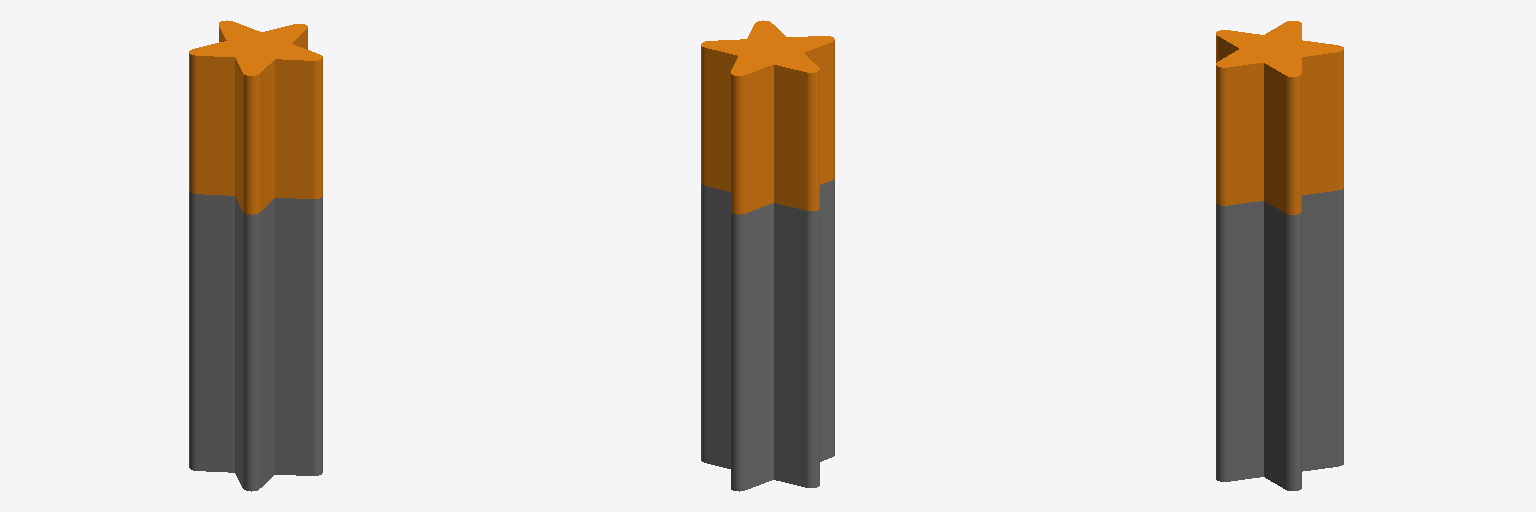
robot.urdf — fmb_peg_40_sdf_hybrid:
<?xml version="1.0" encoding="utf-8"?>
<robot name="fmb_peg_40_sdf_hybrid">
  <link name="base_link">
    <inertial>
      <mass value="0.05"/>
      <inertia ixx="1e-5" ixy="0" ixz="0" iyy="1e-5" iyz="0" izz="1e-5"/>
    </inertial>
  </link>
  <material name="tip">
    <color rgba="0.95 0.55 0.10 1.0"/>
  </material>
  <material name="body">
    <color rgba="0.50 0.50 0.50 1.0"/>
  </material>
  <link name="tip_link">
    <visual>
      <origin xyz="0.000000 0.000000 0.000000" rpy="0.000000 0.000000 0.000000"/>
      <geometry>
        <mesh filename="peg_40_tip.obj" scale="1 1 1"/>
      </geometry>
      <material name="tip"/>
    </visual>
    <collision>
      <origin xyz="0.000000 0.000000 0.000000" rpy="0.000000 0.000000 0.000000"/>
      <geometry>
        <mesh filename="peg_40_tip.obj" scale="1 1 1"/>
      </geometry>
      <sdf resolution="256"/>
    </collision>
  </link>
  <joint name="base_to_tip" type="fixed">
    <parent link="base_link"/>
    <child link="tip_link"/>
    <origin xyz="0 0 0" rpy="0 0 0"/>
  </joint>
  <link name="body_link">
    <visual>
      <origin xyz="0.000000 0.000000 0.000000" rpy="0.000000 0.000000 0.000000"/>
      <geometry>
        <mesh filename="coacd/decomp_0.obj" scale="1 1 1"/>
      </geometry>
      <material name="body"/>
    </visual>
    <collision>
      <origin xyz="0.000000 0.000000 0.000000" rpy="0.000000 0.000000 0.000000"/>
      <geometry>
        <mesh filename="coacd/decomp_0.obj" scale="1 1 1"/>
      </geometry>
    </collision>
    <visual>
      <origin xyz="0.000000 0.000000 0.000000" rpy="0.000000 0.000000 0.000000"/>
      <geometry>
        <mesh filename="coacd/decomp_1.obj" scale="1 1 1"/>
      </geometry>
      <material name="body"/>
    </visual>
    <collision>
      <origin xyz="0.000000 0.000000 0.000000" rpy="0.000000 0.000000 0.000000"/>
      <geometry>
        <mesh filename="coacd/decomp_1.obj" scale="1 1 1"/>
      </geometry>
    </collision>
    <visual>
      <origin xyz="0.000000 0.000000 0.000000" rpy="0.000000 0.000000 0.000000"/>
      <geometry>
        <mesh filename="coacd/decomp_2.obj" scale="1 1 1"/>
      </geometry>
      <material name="body"/>
    </visual>
    <collision>
      <origin xyz="0.000000 0.000000 0.000000" rpy="0.000000 0.000000 0.000000"/>
      <geometry>
        <mesh filename="coacd/decomp_2.obj" scale="1 1 1"/>
      </geometry>
    </collision>
    <visual>
      <origin xyz="0.000000 0.000000 0.000000" rpy="0.000000 0.000000 0.000000"/>
      <geometry>
        <mesh filename="coacd/decomp_3.obj" scale="1 1 1"/>
      </geometry>
      <material name="body"/>
    </visual>
    <collision>
      <origin xyz="0.000000 0.000000 0.000000" rpy="0.000000 0.000000 0.000000"/>
      <geometry>
        <mesh filename="coacd/decomp_3.obj" scale="1 1 1"/>
      </geometry>
    </collision>
    <visual>
      <origin xyz="0.000000 0.000000 0.000000" rpy="0.000000 0.000000 0.000000"/>
      <geometry>
        <mesh filename="coacd/decomp_4.obj" scale="1 1 1"/>
      </geometry>
      <material name="body"/>
    </visual>
    <collision>
      <origin xyz="0.000000 0.000000 0.000000" rpy="0.000000 0.000000 0.000000"/>
      <geometry>
        <mesh filename="coacd/decomp_4.obj" scale="1 1 1"/>
      </geometry>
    </collision>
  </link>
  <joint name="base_to_body" type="fixed">
    <parent link="base_link"/>
    <child link="body_link"/>
    <origin xyz="0 0 0" rpy="0 0 0"/>
  </joint>
</robot>

--- What the picture shows (computed from the rendered views, not written in the file) ---
The picture shows the robot from 3 angles, left to right: view 1: azimuth 30°, elevation 25°; view 2: azimuth 150°, elevation 25°; view 3: azimuth 270°, elevation 25°; orthographic projection.
Model fmb_peg_40_sdf_hybrid with 3 links and 2 joints (2 fixed), rooted at base_link, posed every joint at zero.
Visible links, largest first — view 1: body_link, tip_link; view 2: body_link, tip_link; view 3: body_link, tip_link.
Boxes of the visible links, bbox=[...] form: body_link: bbox=[189, 191, 322, 491]; tip_link: bbox=[189, 20, 322, 214]; body_link: bbox=[701, 179, 834, 491]; tip_link: bbox=[701, 20, 834, 214]; body_link: bbox=[1216, 188, 1343, 490]; tip_link: bbox=[1216, 21, 1343, 214].
Bounding box of the posed robot: 0.0439 × 0.0421 × 0.15 m (x, y, z).
Meshes: 6 distinct files referenced, 6 mesh visuals loaded (6 OBJ).
